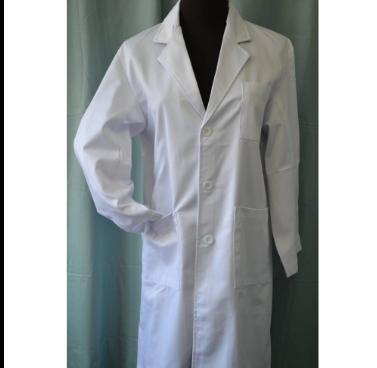lab_coat: (71, 0, 303, 367)
